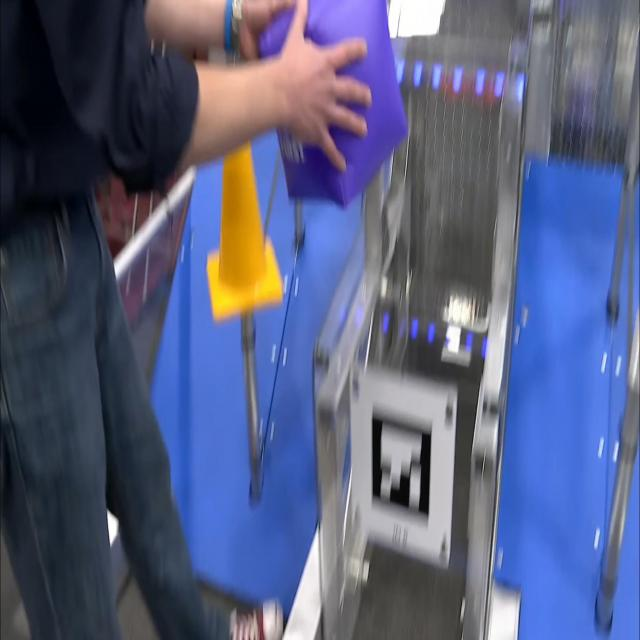frc_cone: (204, 141, 284, 322)
frc_cube: (260, 0, 406, 205)
